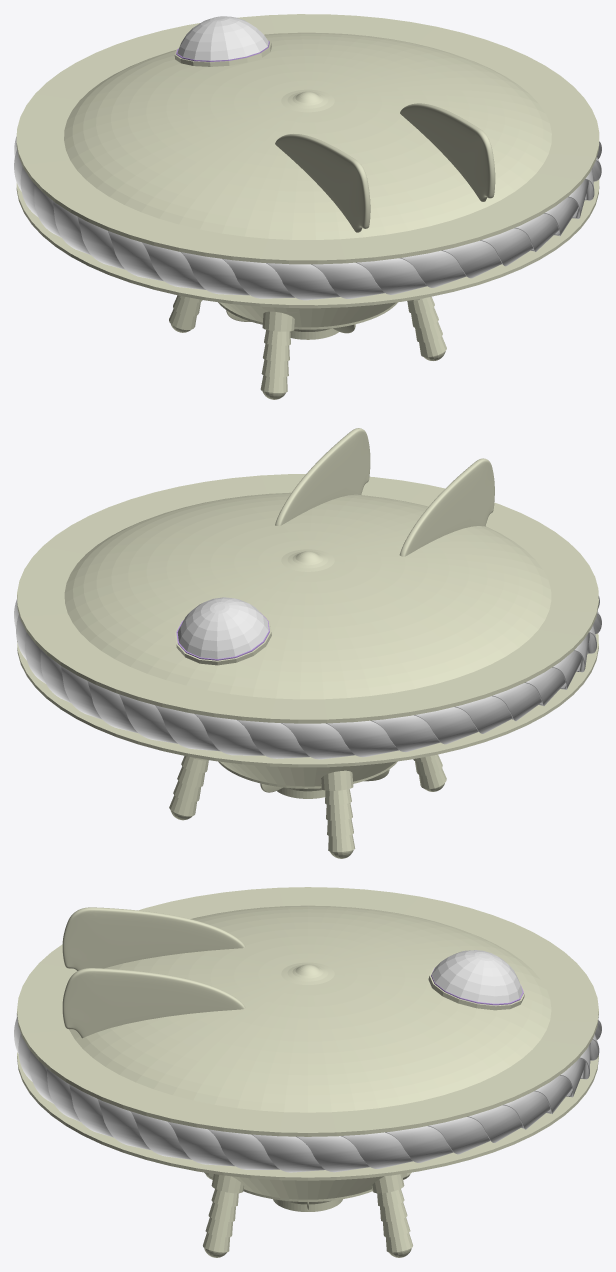
Rendered from devil.girl.ship.glb.
The picture shows the model from 3 angles, top to bottom: view 1: azimuth 30°, elevation 25°; view 2: azimuth 150°, elevation 25°; view 3: azimuth 270°, elevation 25°; orthographic projection.
Visible parts, largest first — view 1: Circle, rotors, ship stabilizers, landing leg strut, Canopy; view 2: Circle, rotors, ship stabilizers, Canopy, landing leg strut; view 3: Circle, rotors, ship stabilizers, Canopy, landing leg strut, Hatch New.
Part boxes in pixels (left/top/right/bottom): Circle: left=16, top=14, right=599, bottom=339; rotors: left=14, top=136, right=601, bottom=300; ship stabilizers: left=275, top=103, right=495, bottom=232; landing leg strut: left=169, top=295, right=446, bottom=399; Canopy: left=177, top=16, right=268, bottom=60; Circle: left=17, top=474, right=598, bottom=798; rotors: left=14, top=596, right=601, bottom=759; ship stabilizers: left=275, top=428, right=494, bottom=556; Canopy: left=177, top=597, right=268, bottom=658; landing leg strut: left=169, top=754, right=446, bottom=858; Circle: left=17, top=887, right=598, bottom=1211; rotors: left=14, top=1013, right=601, bottom=1172; ship stabilizers: left=62, top=907, right=245, bottom=1038; Canopy: left=431, top=950, right=522, bottom=1003; landing leg strut: left=203, top=1172, right=412, bottom=1257; Hatch New: left=282, top=1180, right=333, bottom=1198.
Bounding box in the file's own units: 5.46 × 2.87 × 5.46.
